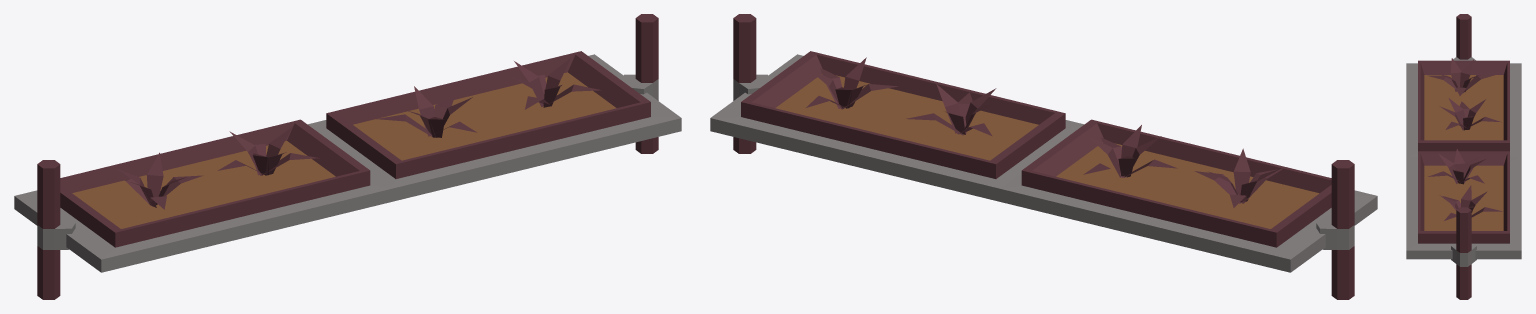
The model's file is scifi-hydroponic-shelf-middle.fbx.
The picture shows the model from 3 angles, left to right: view 1: azimuth 30°, elevation 25°; view 2: azimuth 150°, elevation 25°; view 3: azimuth 270°, elevation 25°; orthographic projection. The views are drawn at different scales.
Visible parts, largest first — view 1: scifi-hydroponic-shelf-middle; view 2: scifi-hydroponic-shelf-middle; view 3: scifi-hydroponic-shelf-middle.
Boxes of the visible parts, left/top/right/bottom form: scifi-hydroponic-shelf-middle: left=14, top=14, right=681, bottom=299; scifi-hydroponic-shelf-middle: left=710, top=14, right=1377, bottom=299; scifi-hydroponic-shelf-middle: left=1406, top=14, right=1521, bottom=299.
Size of the model in its own units: 2.45 by 0.5 by 0.6.
